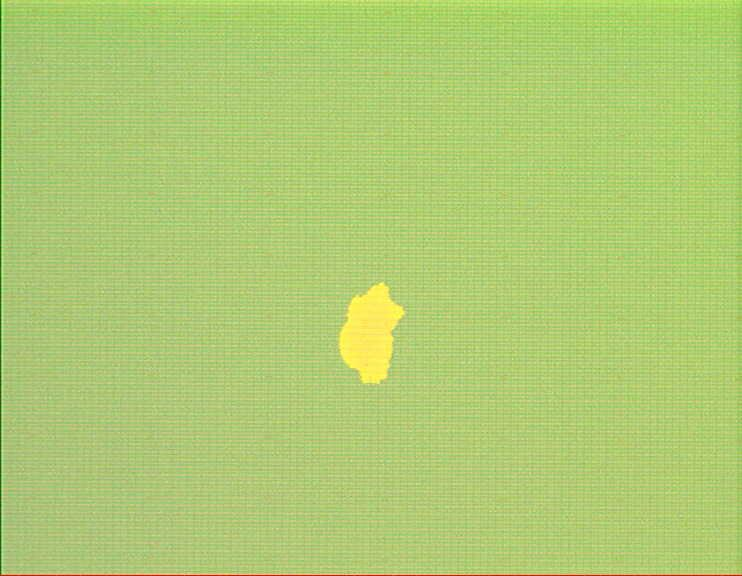BLOCK ETCH: (338, 280, 408, 387)
